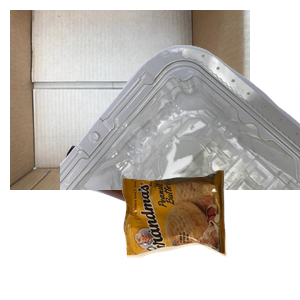cardboard: (10, 10, 250, 190)
glass: (60, 142, 300, 300)
plastic: (60, 43, 300, 223)
trash: (120, 168, 300, 300)
